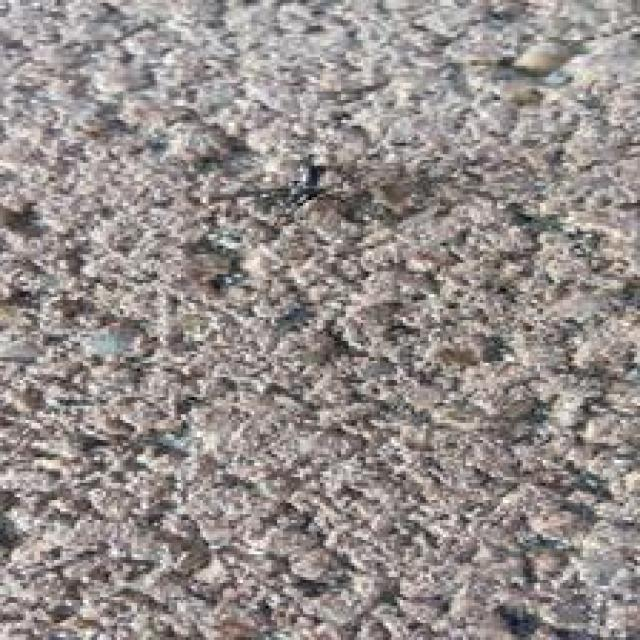Aedes albopictus: (287, 153, 327, 204)
